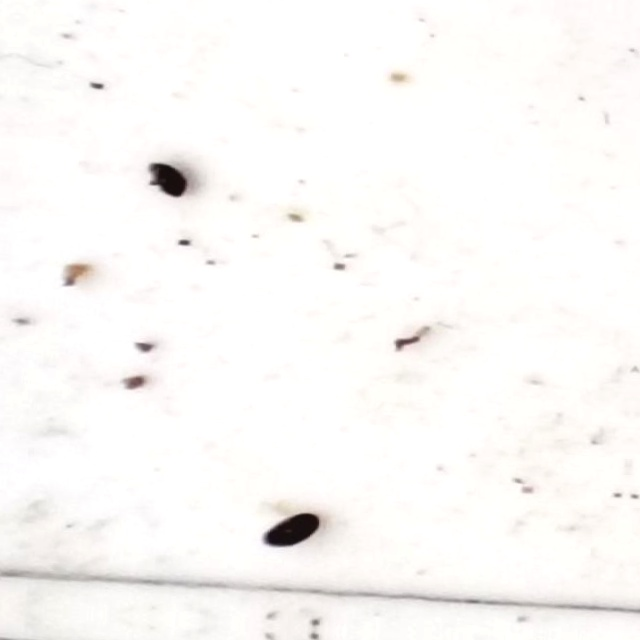varroa: (258, 509, 321, 552), (141, 160, 188, 200)
